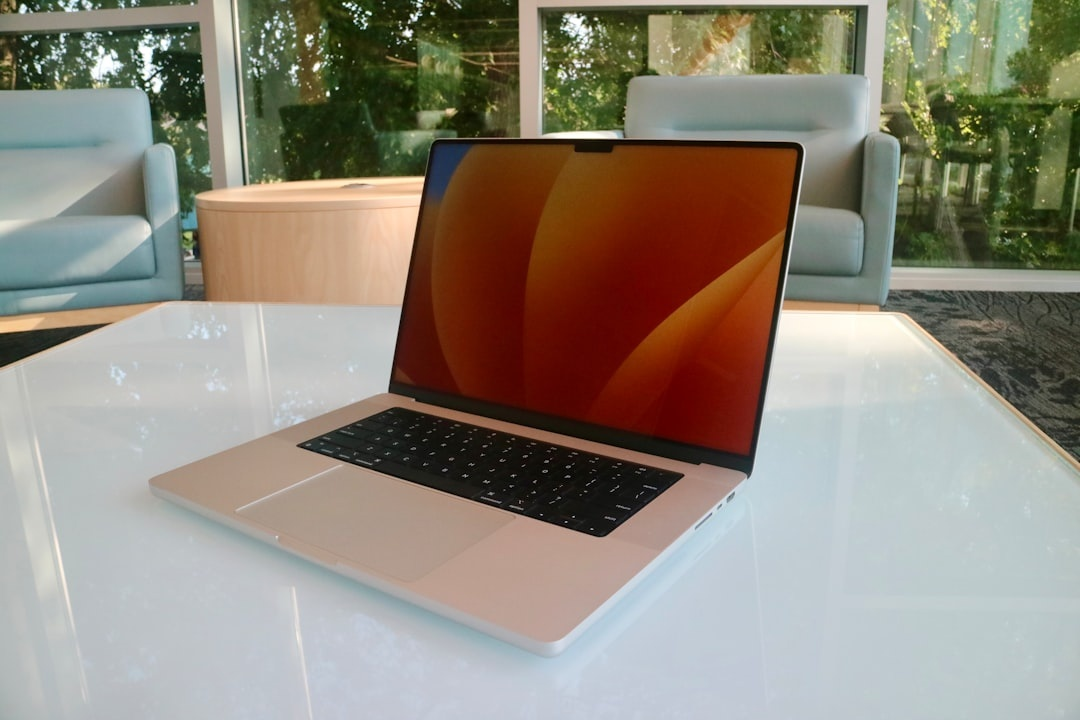laptop: (128, 108, 879, 671)
